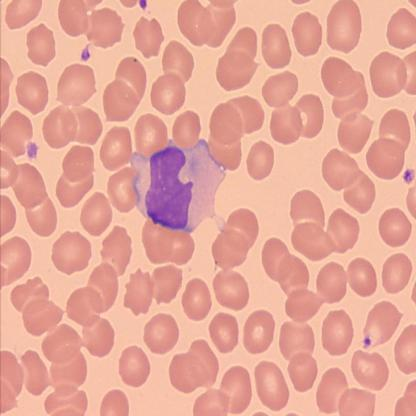Atypical lymphocyte: (132, 139, 228, 234)
